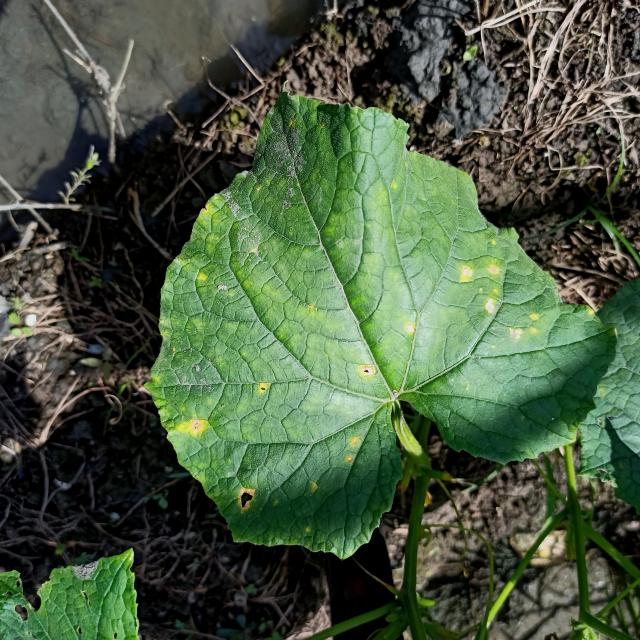disease_cucumber: (459, 265, 542, 342), (176, 417, 207, 438), (343, 436, 360, 464), (238, 487, 255, 512), (358, 365, 374, 378), (404, 322, 417, 334), (257, 383, 268, 392)
